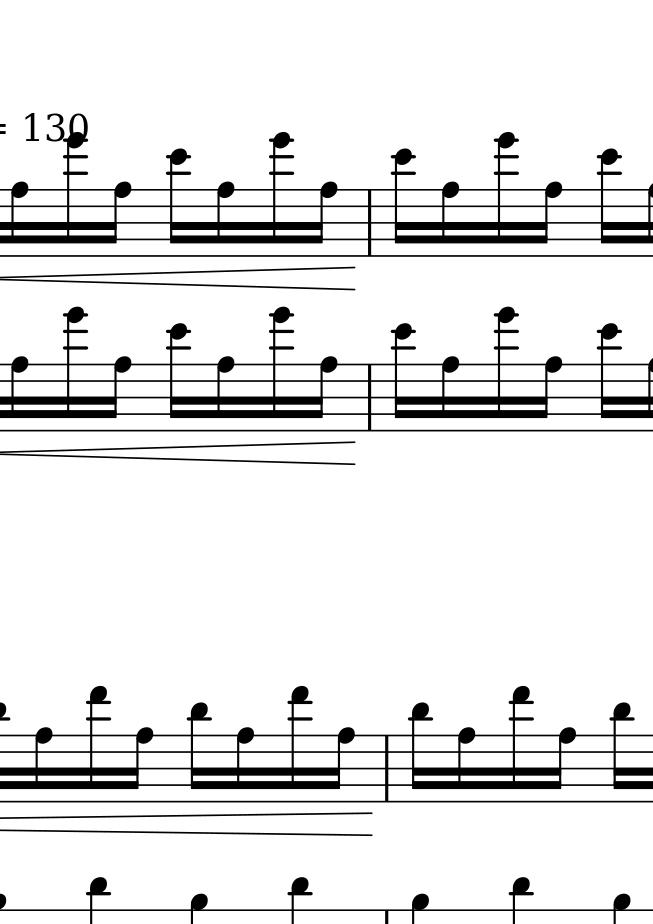0: (67, 110, 88, 142)
1: (24, 110, 40, 145)
16_11: (407, 701, 434, 804), (184, 703, 211, 803), (609, 701, 633, 805)
16_12: (596, 323, 624, 433), (165, 322, 192, 432), (390, 323, 417, 432), (596, 147, 622, 259), (165, 148, 191, 259), (392, 147, 416, 258)
16_13: (84, 684, 112, 803), (286, 685, 313, 803), (508, 685, 535, 803)
16_14: (61, 305, 89, 435), (268, 307, 296, 434), (493, 132, 521, 258), (494, 306, 521, 435), (63, 132, 88, 259), (270, 129, 294, 260)
16_8: (308, 356, 340, 433), (104, 181, 135, 259), (534, 355, 564, 433), (548, 726, 577, 805), (327, 727, 356, 804), (534, 180, 562, 259), (126, 726, 155, 802), (315, 180, 341, 257), (107, 355, 132, 435), (454, 724, 478, 804), (232, 726, 256, 803), (7, 180, 30, 259), (214, 181, 237, 259), (440, 356, 462, 434), (31, 727, 53, 804), (215, 355, 236, 433), (439, 179, 459, 259), (8, 355, 28, 434)
3: (45, 112, 65, 144)
Crescendo_hairpin: (1, 440, 359, 469), (1, 264, 355, 292)
Single_barline: (360, 364, 378, 429), (377, 737, 395, 800), (361, 191, 378, 255)
